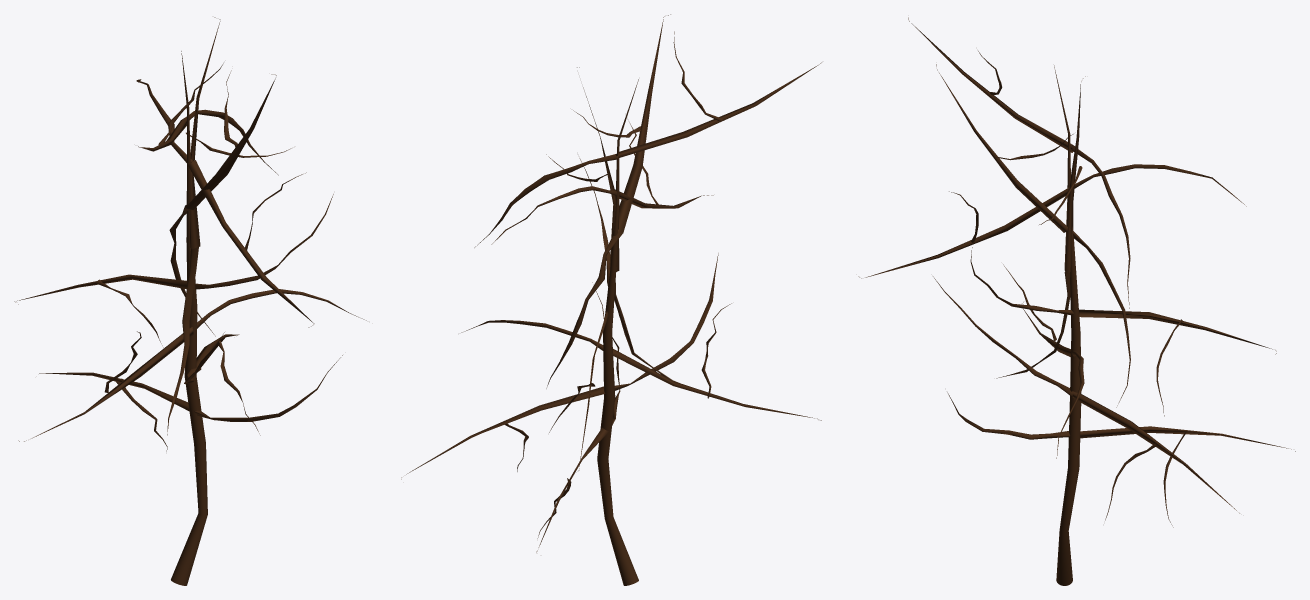
File: koks04_test.fbx
The picture shows the model from 3 angles, left to right: view 1: azimuth 30°, elevation 25°; view 2: azimuth 150°, elevation 25°; view 3: azimuth 270°, elevation 25°; orthographic projection. The views are drawn at different scales.
Visible parts, largest first — view 1: Koks4; view 2: Koks4; view 3: Koks4.
Part boxes in pixels (bbox=[...]): Koks4: bbox=[14, 17, 366, 585]; Koks4: bbox=[401, 14, 821, 585]; Koks4: bbox=[858, 17, 1295, 585].
Size of the model in its own units: 1931 by 2777 by 2073.
